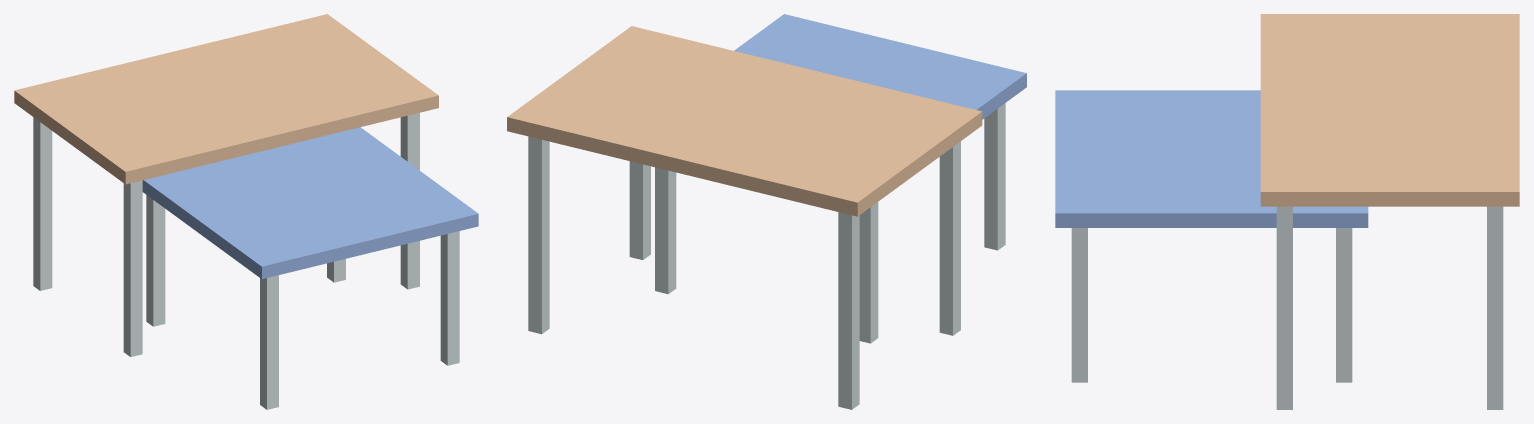
File: coffeeNesting.glb
3 renders of one model, left to right at view 1: azimuth 30°, elevation 25°; view 2: azimuth 150°, elevation 25°; view 3: azimuth 270°, elevation 25°, orthographic. The views are drawn at different scales.
Visible parts, largest first — view 1: coffeeNesting; view 2: coffeeNesting; view 3: coffeeNesting.
Part boxes in pixels (x1,y1,x2,y2): coffeeNesting: (14, 14, 478, 409); coffeeNesting: (507, 14, 1026, 409); coffeeNesting: (1055, 14, 1519, 409).
Size of the model in its own units: 0.39 by 0.23 by 0.43.
